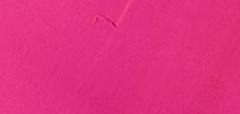snag: (90, 10, 123, 33)
